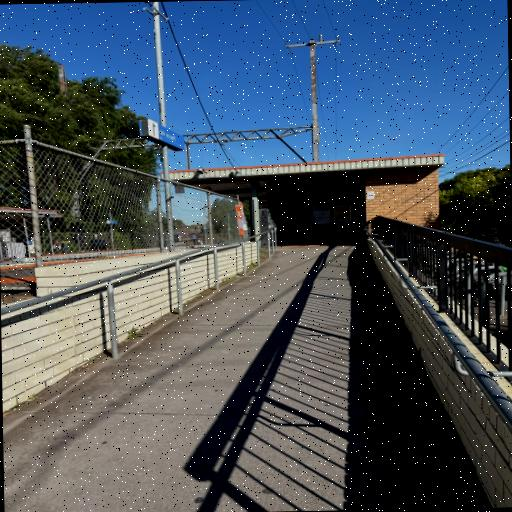handrail: (1, 240, 272, 414), (365, 217, 512, 372)
ramp: (3, 246, 479, 511)
